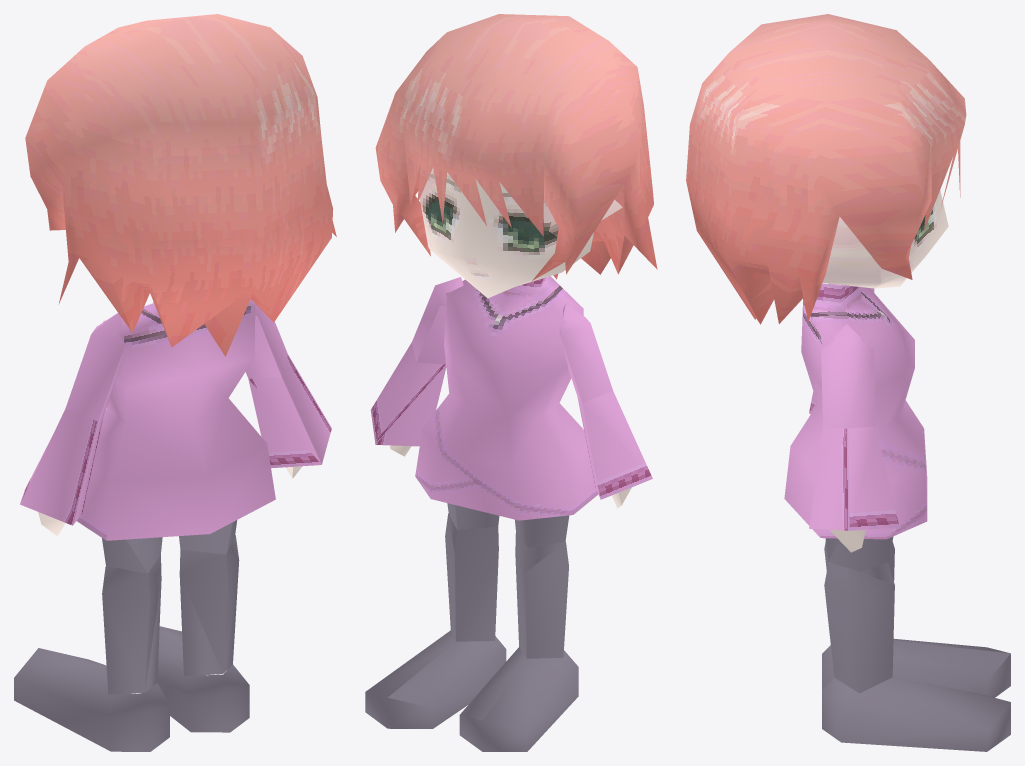
Rendered from ps2_save-icons_themusumeikusei.glb.
3 renders of one model, left to right at view 1: azimuth 30°, elevation 25°; view 2: azimuth 150°, elevation 25°; view 3: azimuth 270°, elevation 25°, orthographic. The views are drawn at different scales.
Parts seen in each view (by area): view 1: icon1.ico; view 2: icon1.ico; view 3: icon1.ico.
Boxes of the visible parts, left/top/right/bottom form: icon1.ico: left=14, top=14, right=336, bottom=751; icon1.ico: left=365, top=14, right=657, bottom=751; icon1.ico: left=686, top=14, right=1010, bottom=751.
Size of the model in its own units: 1.86 by 4.11 by 1.76.
1 material, 1 textured.
